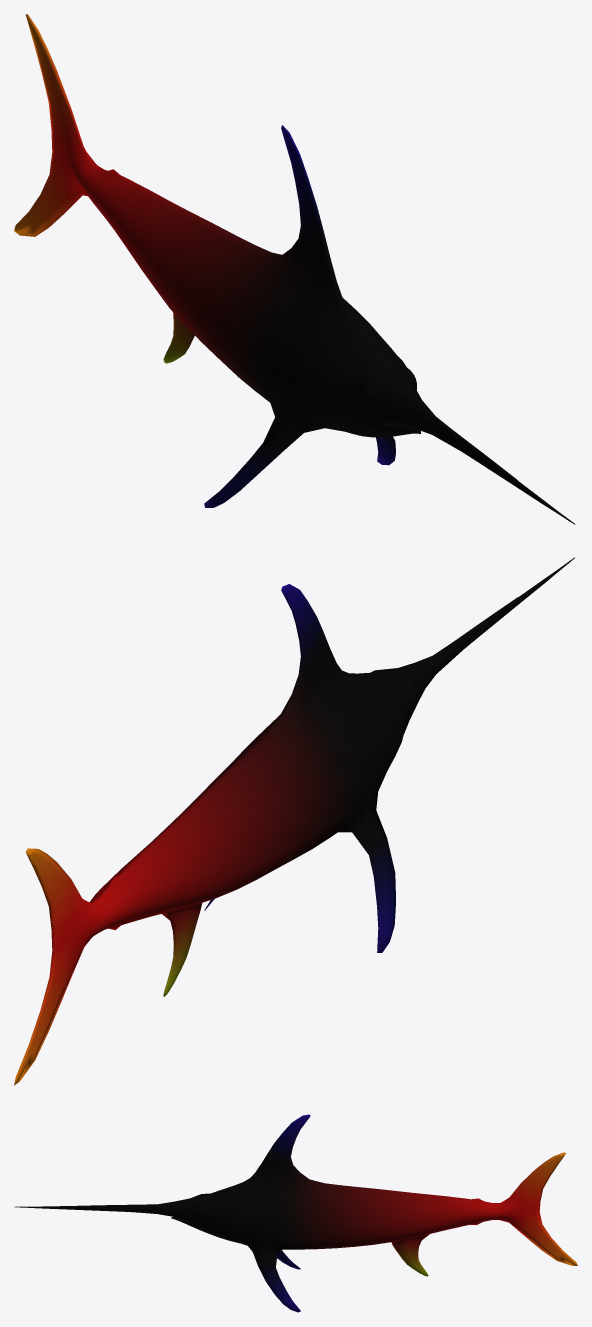
The picture shows the model from 3 angles, top to bottom: view 1: azimuth 30°, elevation 25°; view 2: azimuth 150°, elevation 25°; view 3: azimuth 270°, elevation 25°; orthographic projection. The views are drawn at different scales.
Parts seen in each view (by area): view 1: Swordfish; view 2: Swordfish; view 3: Swordfish.
Boxes of the visible parts, x1=… form: Swordfish: x1=14, y1=14, x2=575, y2=524; Swordfish: x1=14, y1=557, x2=574, y2=1085; Swordfish: x1=14, y1=1114, x2=577, y2=1312.
Bounding box in the file's own units: 0.5627 × 1.07 × 3.09.
